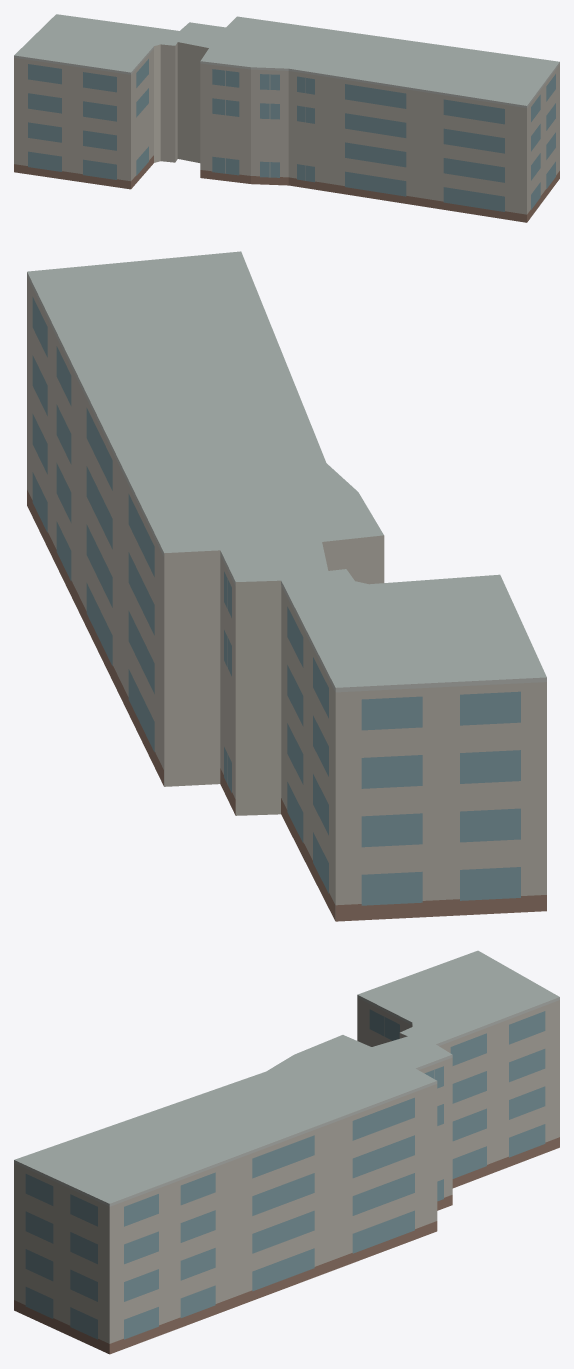
Rendered from survey-upis-32823389.glb.
3 views of the same model, one above another, from view 1: azimuth 30°, elevation 25°; view 2: azimuth 150°, elevation 25°; view 3: azimuth 270°, elevation 25° (orthographic). The views are drawn at different scales.
Parts seen in each view (by area): view 1: survey-upis-32823389.tmp; view 2: survey-upis-32823389.tmp; view 3: survey-upis-32823389.tmp.
Part boxes in pixels (bbox=[...]): survey-upis-32823389.tmp: bbox=[14, 14, 559, 222]; survey-upis-32823389.tmp: bbox=[27, 251, 546, 921]; survey-upis-32823389.tmp: bbox=[14, 950, 559, 1354].
Size of the model in its own units: 44.94 by 12.45 by 40.91.
